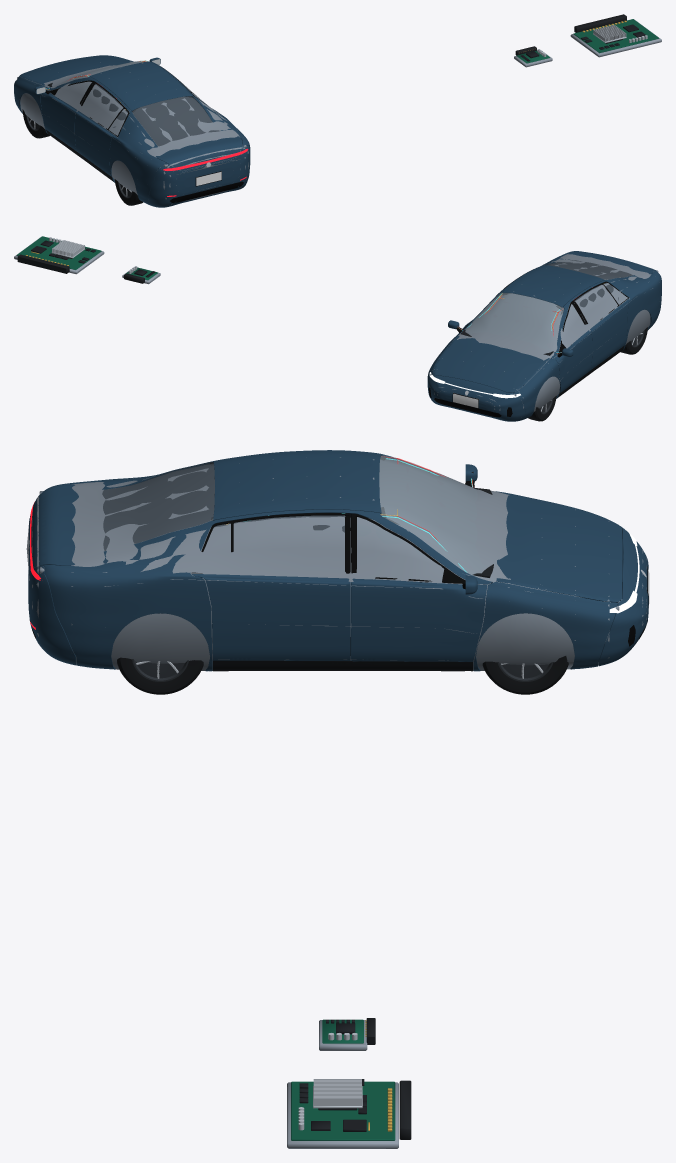
File: sdv.glb
3 renders of one model, top to bottom at view 1: azimuth 30°, elevation 25°; view 2: azimuth 150°, elevation 25°; view 3: azimuth 270°, elevation 25°, orthographic. The views are drawn at different scales.
Visible parts, largest first — view 1: FleetCar, Panel_SideOuter, Glass, Panel_Roof, Panel_BumperR, Panel_DoorR, Panel_Trunk, Panel_Hood, Panel_DoorF, Det_ccc_pcb, Det_ccc_case, Panel_Fender (+8 smaller); view 2: FleetCar, Glass, Panel_Hood, Panel_Roof, Panel_SideOuter, Panel_BumperF, Panel_DoorR, Panel_DoorF, Panel_Fender, Det_ccc_pcb, Det_ccc_case, Panel_Trunk (+5 smaller); view 3: FleetCar, Panel_SideOuter, Glass, Panel_DoorR, Panel_Hood, Panel_DoorF, Panel_Roof, Panel_Fender, Det_ccc_pcb, Panel_Trunk, Panel_BumperF, Panel_Rocker (+7 smaller).
Boxes of the visible parts, x1,y1,x2,y2 form: FleetCar: (14,61,248,204); Panel_SideOuter: (46,61,250,205); Glass: (52,60,220,146); Panel_Roof: (89,61,191,110); Panel_BumperR: (148,144,250,207); Panel_DoorR: (75,108,217,176); Panel_Trunk: (156,136,242,170); Panel_Hood: (20,55,133,85); Panel_DoorF: (41,92,77,151); Det_ccc_pcb: (573,19,659,53); Det_ccc_case: (570,14,661,57); Panel_Fender: (14,76,47,133); FleetCar: (432,254,653,417); Glass: (459,260,632,352); Panel_Hood: (433,336,549,392); Panel_Roof: (502,265,604,307); Panel_SideOuter: (458,251,661,358); Panel_BumperF: (427,374,525,421); Panel_DoorR: (590,298,629,370); Panel_DoorF: (456,321,592,392); Panel_Fender: (427,335,560,419); Det_ccc_pcb: (16,236,101,269); Det_ccc_case: (14,236,104,274); Panel_Trunk: (568,251,654,274); FleetCar: (29,457,646,670); Panel_SideOuter: (44,450,492,671); Glass: (102,454,494,581); Panel_DoorR: (192,574,350,660); Panel_Hood: (496,491,622,602); Panel_DoorF: (351,578,487,661); Panel_Roof: (213,450,381,520); Panel_Fender: (473,492,617,671); Det_ccc_pcb: (291,1081,395,1140); Panel_Trunk: (29,484,78,569); Panel_BumperF: (598,526,648,666); Panel_Rocker: (213,660,472,671).
Bounding box in the file's own units: 10.22 × 1.45 × 4.78.
